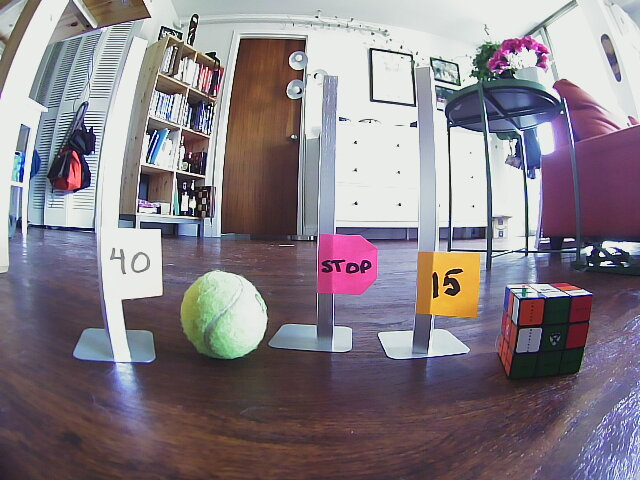15: (417, 251, 477, 314)
40: (101, 230, 162, 296)
ball: (180, 274, 269, 357)
cube: (498, 280, 590, 377)
stop: (320, 243, 373, 288)
